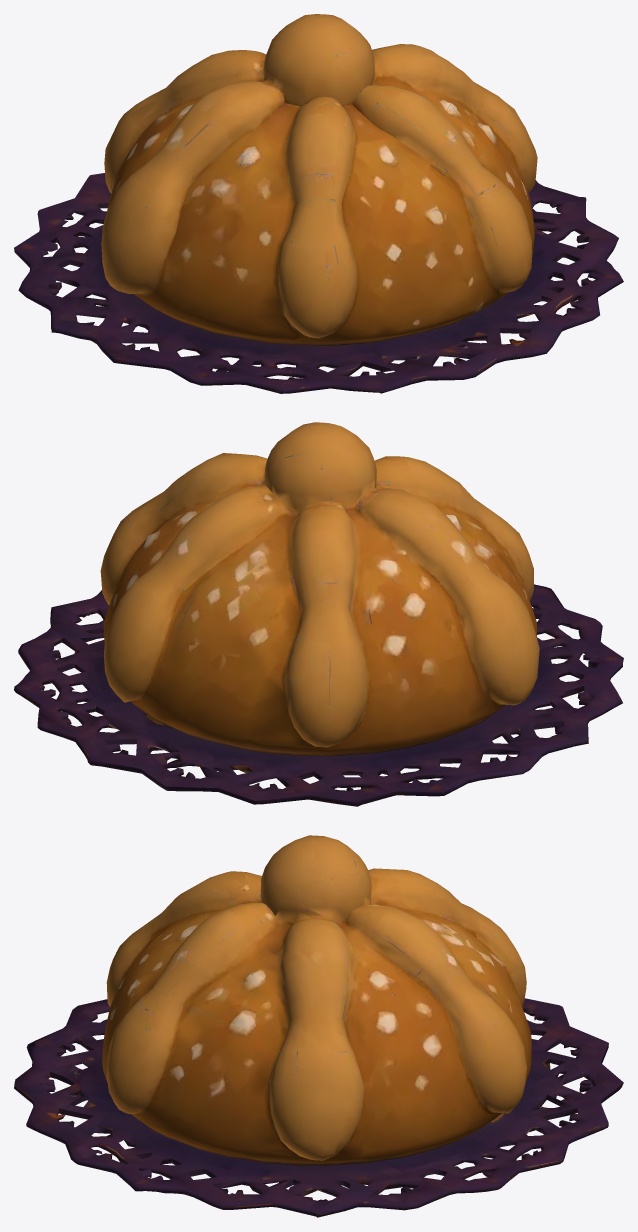
File: pan-muerto-optimized.glb
The picture shows the model from 3 angles, top to bottom: view 1: azimuth 30°, elevation 25°; view 2: azimuth 150°, elevation 25°; view 3: azimuth 270°, elevation 25°; orthographic projection.
Visible parts, largest first — view 1: Mesh_0; view 2: Mesh_0; view 3: Mesh_0.
Part boxes in pixels (<box>): Mesh_0: <box>14,14,623,393</box>; Mesh_0: <box>14,422,623,806</box>; Mesh_0: <box>14,835,623,1217</box>.
Size of the model in its own units: 1.9 by 0.846 by 1.89.
1 material, 1 textured.
